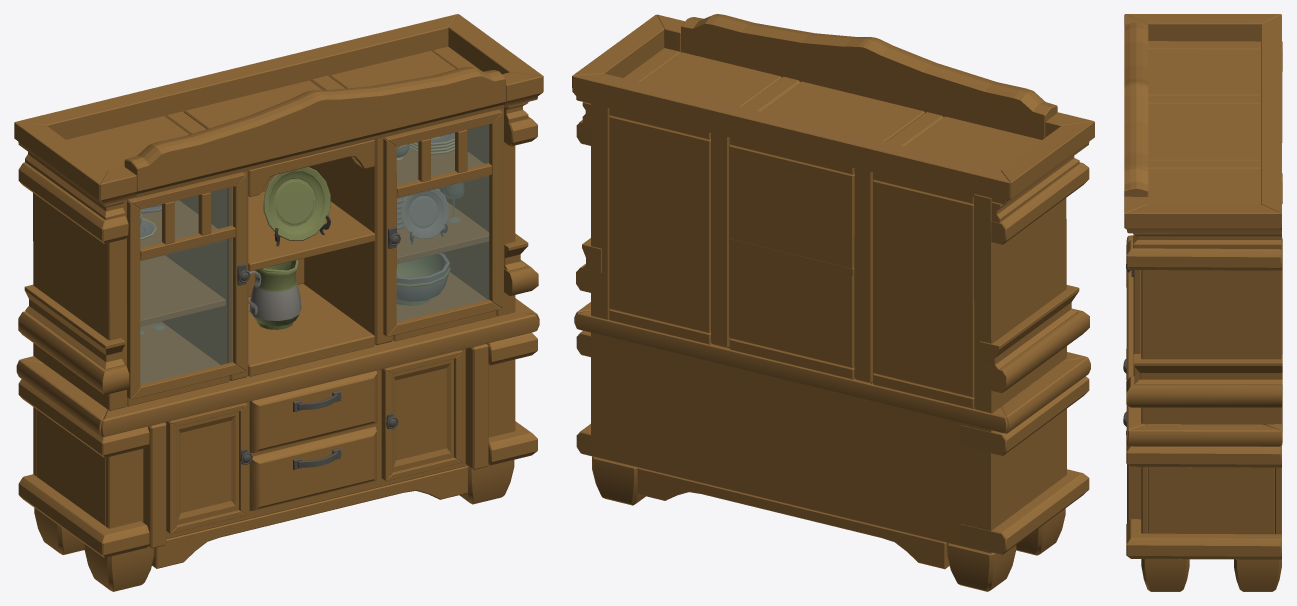
The model's file is ChinaCabinet.fbx.
The picture shows the model from 3 angles, left to right: view 1: azimuth 30°, elevation 25°; view 2: azimuth 150°, elevation 25°; view 3: azimuth 270°, elevation 25°; orthographic projection. The views are drawn at different scales.
Visible parts, largest first — view 1: ChinaCabinetBase, CabinetDoor_Glass, Dishes; view 2: ChinaCabinetBase; view 3: ChinaCabinetBase.
Boxes of the visible parts, x1=… form: ChinaCabinetBase: x1=14, y1=14, x2=543, y2=591; CabinetDoor_Glass: x1=135, y1=124, x2=489, y2=384; Dishes: x1=127, y1=133, x2=464, y2=334; ChinaCabinetBase: x1=572, y1=14, x2=1094, y2=591; ChinaCabinetBase: x1=1123, y1=14, x2=1282, y2=591.
Size of the model in its own units: 437 by 431 by 148.
